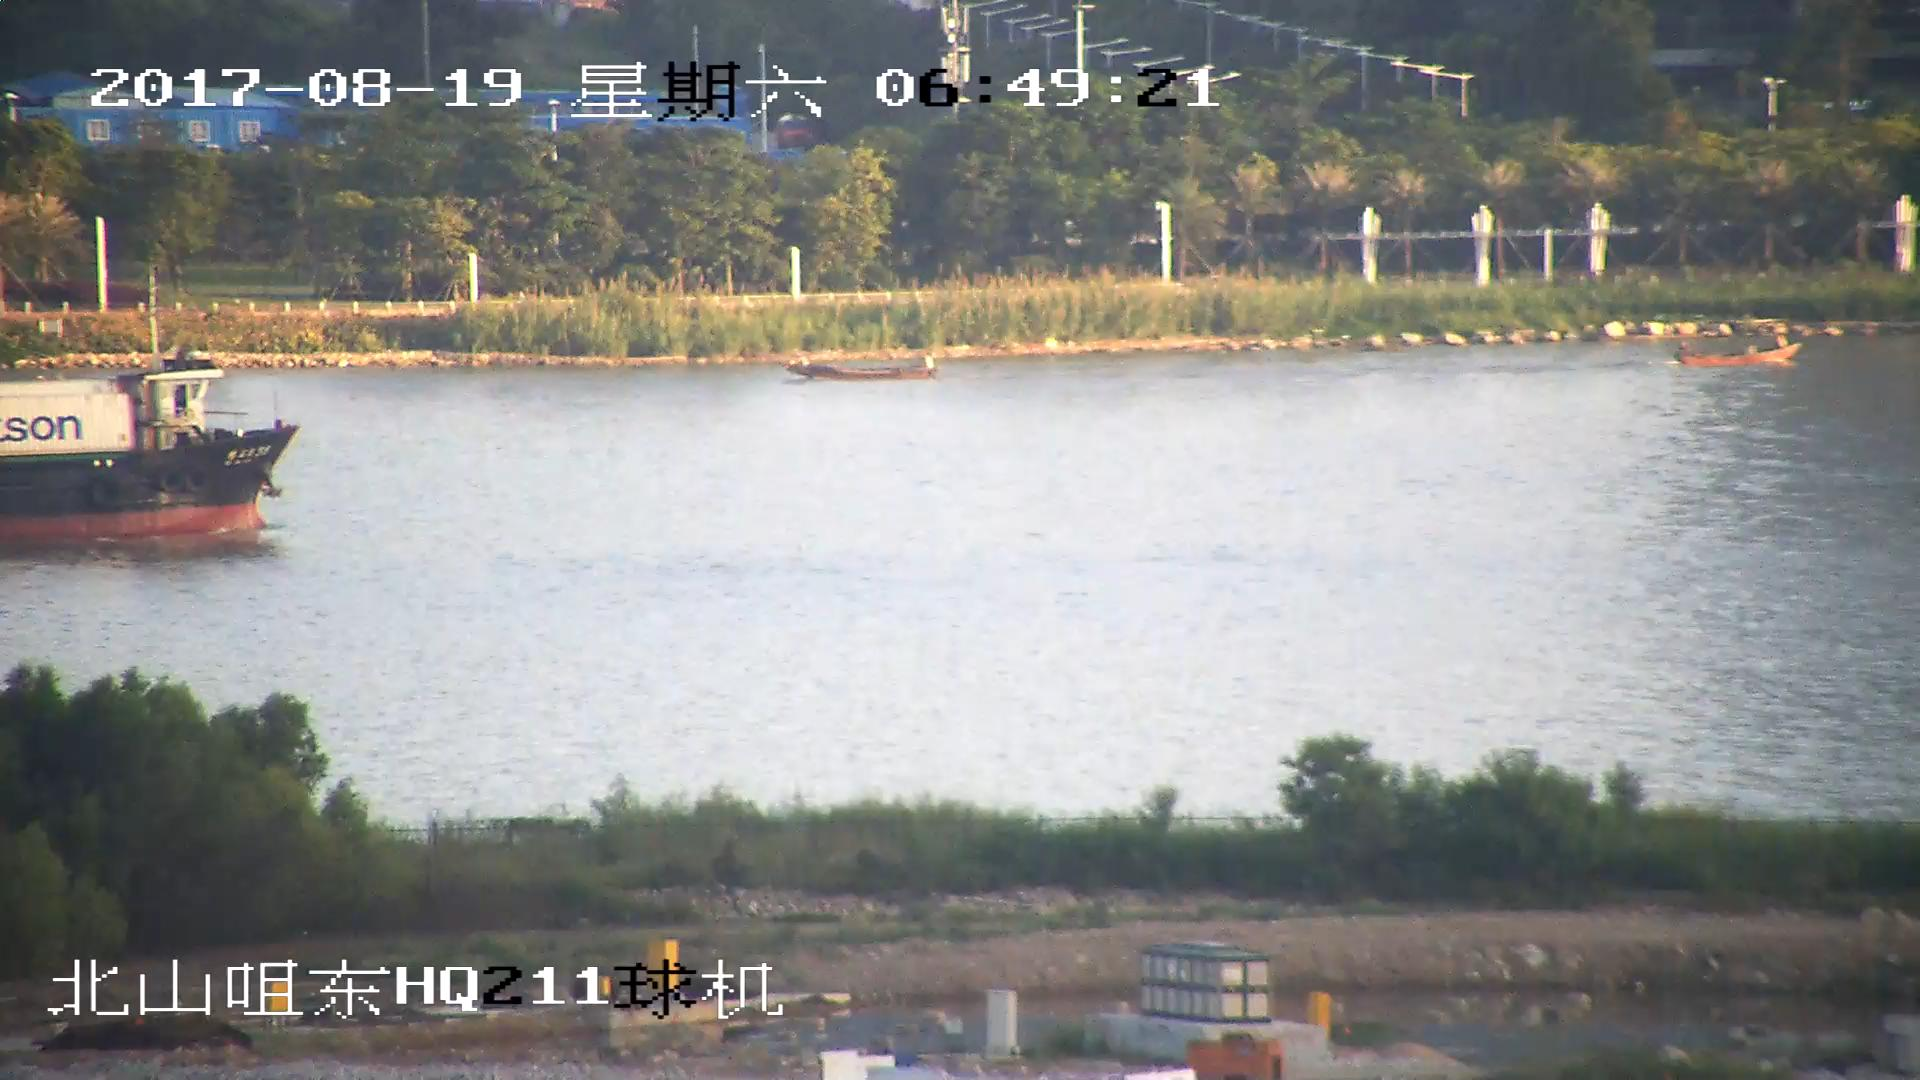container ship: (1, 286, 286, 554)
fishing boat: (784, 351, 934, 384), (1675, 337, 1803, 373)
